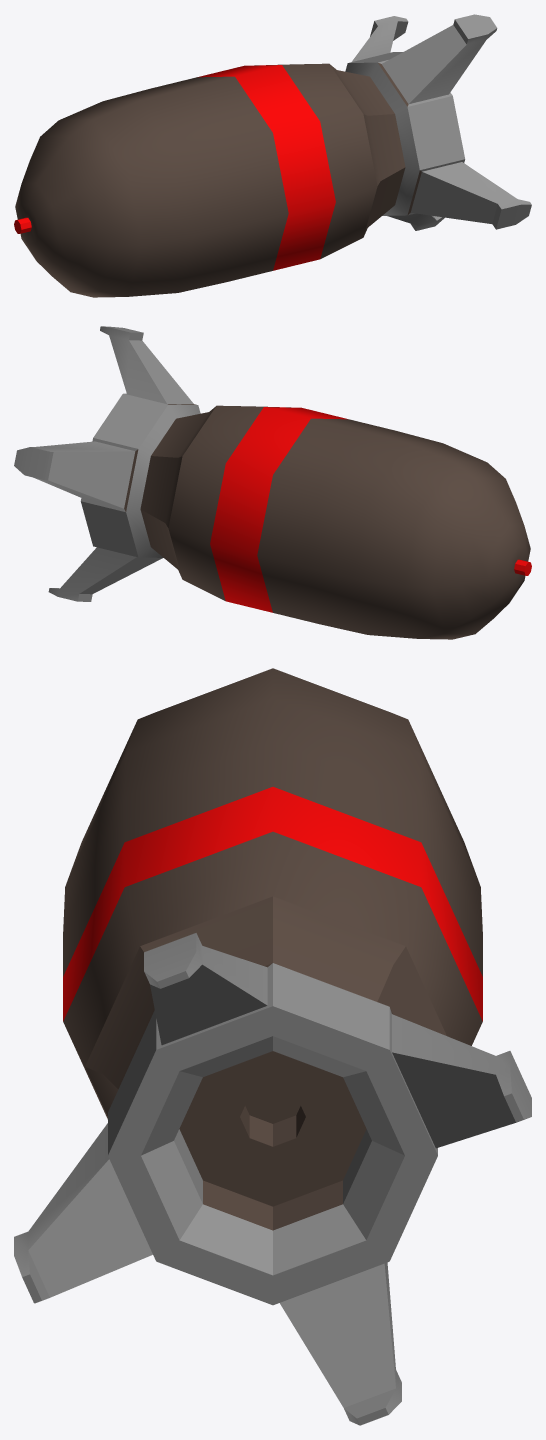
Rendered from Bombe.FBX.
The picture shows the model from 3 angles, top to bottom: view 1: azimuth 30°, elevation 25°; view 2: azimuth 150°, elevation 25°; view 3: azimuth 270°, elevation 25°; orthographic projection. The views are drawn at different scales.
Parts seen in each view (by area): view 1: Cylinder039; view 2: Cylinder039; view 3: Cylinder039.
Boxes of the visible parts, box(x1,y1,x2,y2) form: Cylinder039: box(14, 14, 531, 297); Cylinder039: box(14, 326, 531, 639); Cylinder039: box(14, 668, 531, 1425).
Bounding box in the file's own units: 92.47 × 47.27 × 47.27.
